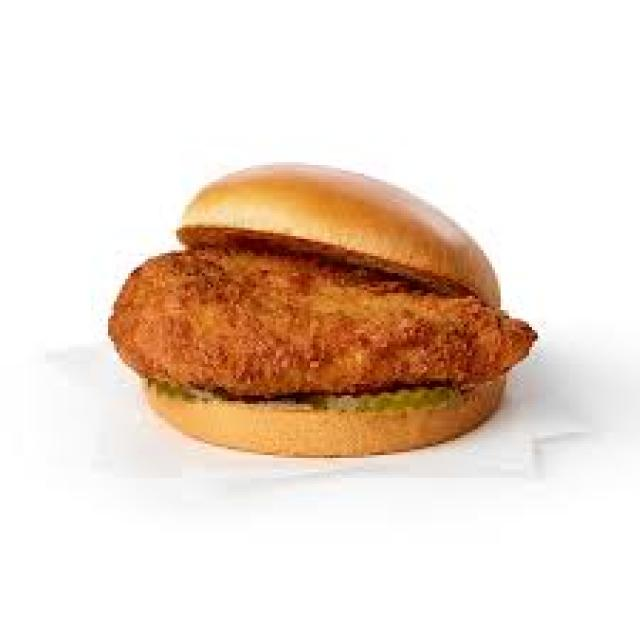햄버거: (108, 165, 538, 461)
